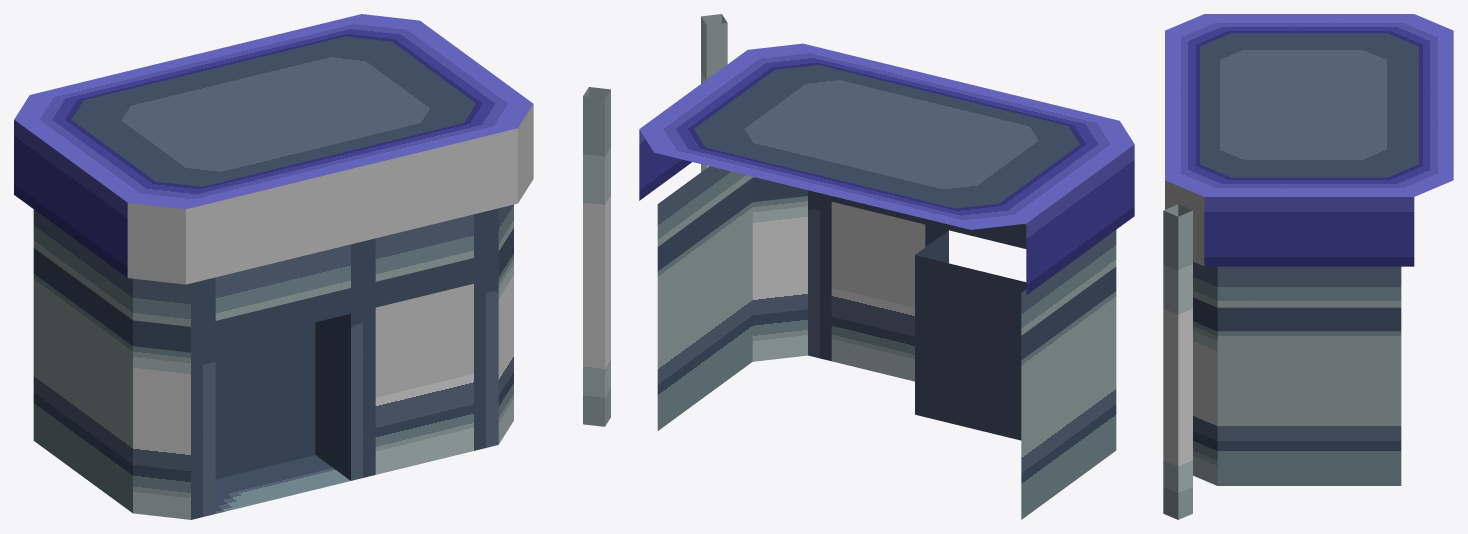
Rendered from PokeMartOutside.fbx.
The picture shows the model from 3 angles, left to right: view 1: azimuth 30°, elevation 25°; view 2: azimuth 150°, elevation 25°; view 3: azimuth 270°, elevation 25°; orthographic projection. The views are drawn at different scales.
Visible parts, largest first — view 1: polygon0, polygon3, polygon2; view 2: polygon0, polygon2; view 3: polygon0, polygon3.
Boxes of the visible parts, bbox=[...] form: polygon0: bbox=[14, 14, 610, 519]; polygon3: bbox=[127, 104, 533, 284]; polygon2: bbox=[375, 283, 473, 397]; polygon0: bbox=[639, 14, 1134, 519]; polygon2: bbox=[831, 202, 925, 307]; polygon0: bbox=[1163, 14, 1453, 519]; polygon3: bbox=[1165, 180, 1204, 265].
Bounding box in the file's own units: 4.77 × 3.19 × 2.77.
